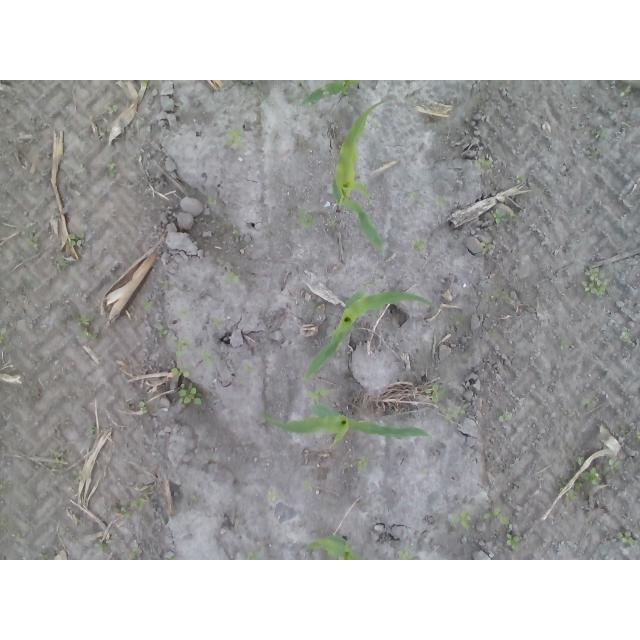Maize: (305, 289, 432, 373), (330, 100, 387, 253), (262, 404, 431, 447), (303, 81, 357, 108), (306, 536, 358, 561)
Weeds: (171, 367, 204, 409), (580, 267, 608, 298), (112, 497, 145, 519), (446, 507, 471, 529), (77, 313, 96, 339), (483, 507, 510, 525), (424, 383, 448, 401), (582, 466, 602, 487), (300, 386, 330, 400), (296, 206, 316, 226), (173, 335, 191, 357), (224, 126, 245, 144), (617, 531, 639, 546), (506, 533, 523, 552), (567, 482, 583, 502), (489, 207, 507, 224), (473, 156, 494, 169), (200, 351, 215, 369), (67, 232, 85, 246), (223, 272, 242, 285), (106, 158, 118, 178), (447, 406, 466, 418), (435, 193, 450, 207), (264, 489, 279, 503), (358, 456, 370, 472), (619, 79, 640, 88), (399, 549, 416, 560), (358, 181, 369, 196), (245, 552, 263, 561), (579, 400, 593, 411), (412, 239, 426, 250), (138, 401, 148, 416), (618, 331, 630, 343), (480, 241, 493, 252), (53, 450, 64, 463), (497, 414, 512, 423), (598, 129, 610, 140), (28, 238, 39, 249), (607, 458, 621, 466), (558, 339, 568, 350), (106, 104, 117, 114), (93, 541, 103, 552), (71, 470, 80, 481), (159, 329, 169, 338), (515, 176, 526, 184), (164, 552, 175, 560), (557, 480, 566, 489), (207, 195, 214, 206), (304, 479, 311, 489), (633, 432, 640, 441)
